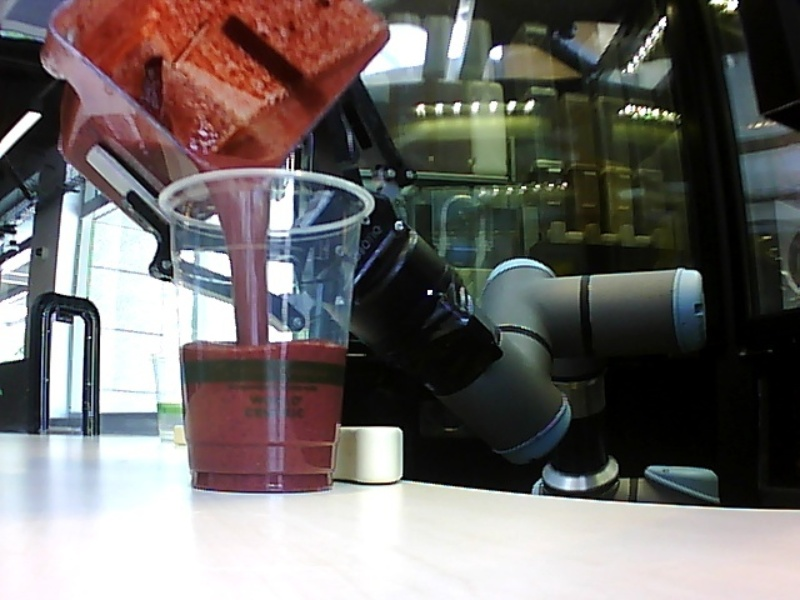cup: (156, 163, 379, 501)
limit: (175, 325, 354, 362)
